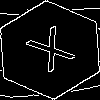X: (25, 25, 84, 82)
